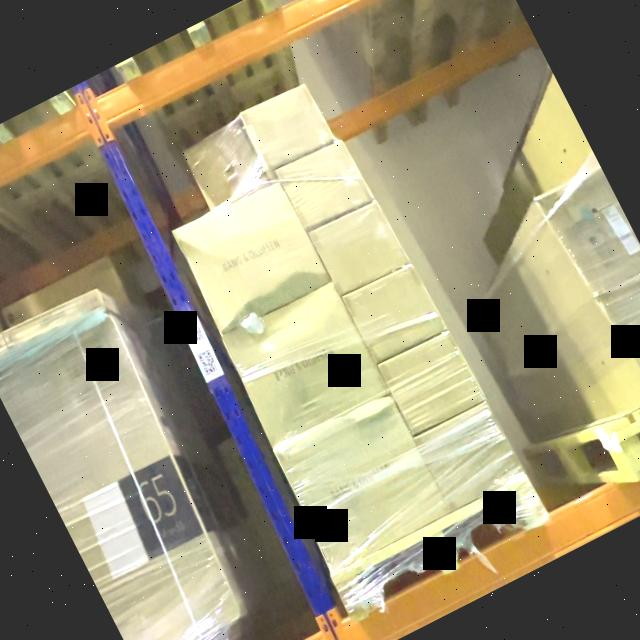box: (276, 396, 450, 572), (222, 283, 390, 448), (172, 180, 328, 332), (544, 172, 640, 301), (418, 402, 524, 509), (382, 332, 485, 435), (348, 266, 446, 362), (312, 200, 408, 294), (276, 139, 372, 231), (0, 284, 110, 356), (243, 82, 332, 170), (186, 125, 270, 208), (604, 272, 640, 401), (0, 329, 10, 361)
